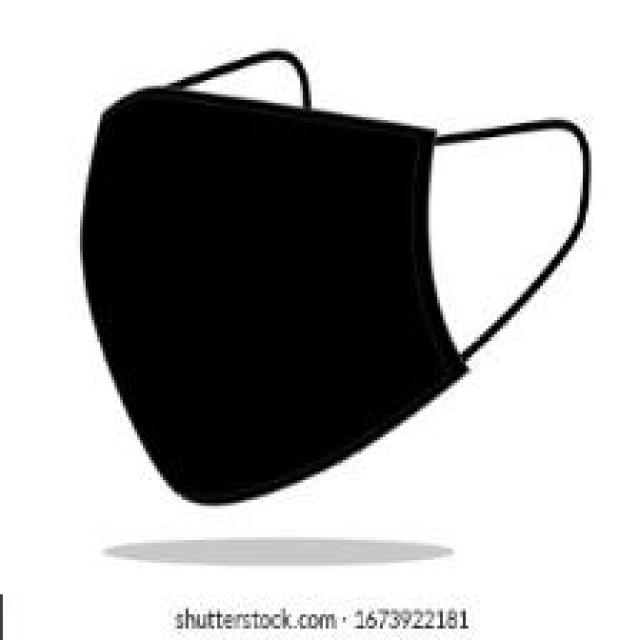Mask: (68, 31, 598, 512)
